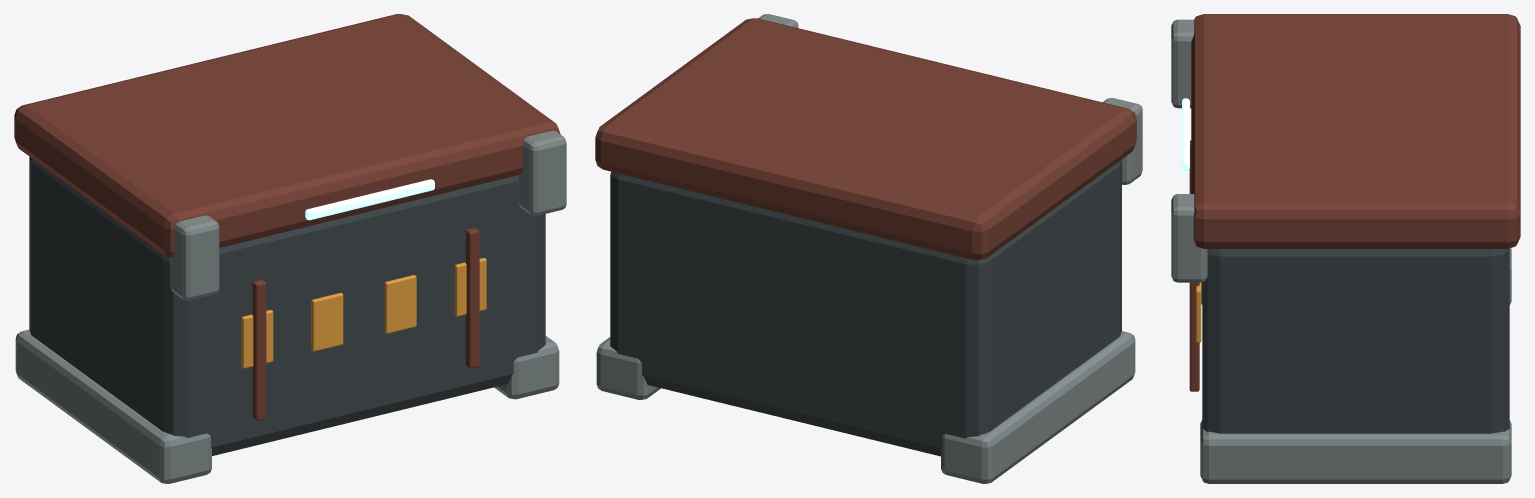
Rendered from salvage-cache.glb.
3 renders of one model, left to right at view 1: azimuth 30°, elevation 25°; view 2: azimuth 150°, elevation 25°; view 3: azimuth 270°, elevation 25°, orthographic. The views are drawn at different scales.
Parts seen in each view (by area): view 1: Salvage bin, Raised lid, Stacking foot, Lid clamp, Lid clamp.001, Stacking foot.001, Armoured side strip, Armoured side strip.001, Cargo chevron.001, Cargo chevron.002, Locator strip, Cargo chevron.003 (+1 smaller); view 2: Salvage bin, Raised lid, Stacking foot, Stacking foot.001, Lid clamp; view 3: Raised lid, Salvage bin, Stacking foot.001, Lid clamp.001, Lid clamp, Armoured side strip.001, Locator strip.
Part boxes in pixels (bbox=[...]): Salvage bin: bbox=[29, 157, 545, 455]; Raised lid: bbox=[14, 14, 560, 257]; Stacking foot: bbox=[15, 329, 211, 483]; Lid clamp: bbox=[170, 215, 219, 300]; Lid clamp.001: bbox=[517, 130, 566, 215]; Stacking foot.001: bbox=[494, 336, 559, 399]; Armoured side strip: bbox=[252, 280, 266, 420]; Armoured side strip.001: bbox=[465, 227, 479, 368]; Cargo chevron.001: bbox=[311, 293, 343, 351]; Cargo chevron.002: bbox=[384, 275, 416, 333]; Locator strip: bbox=[305, 179, 434, 220]; Cargo chevron.003: bbox=[454, 258, 486, 316]; Salvage bin: bbox=[610, 160, 1121, 456]; Raised lid: bbox=[595, 18, 1136, 260]; Stacking foot: bbox=[941, 331, 1135, 483]; Stacking foot.001: bbox=[596, 337, 660, 399]; Lid clamp: bbox=[1103, 98, 1142, 184]; Raised lid: bbox=[1191, 14, 1520, 248]; Salvage bin: bbox=[1202, 248, 1509, 433]; Stacking foot.001: bbox=[1200, 420, 1511, 483]; Lid clamp.001: bbox=[1171, 194, 1207, 282]; Lid clamp: bbox=[1171, 19, 1194, 108]; Armoured side strip.001: bbox=[1189, 282, 1199, 391]; Locator strip: bbox=[1182, 98, 1189, 170].
Size of the model in its own units: 1.31 by 0.85 by 0.965.
